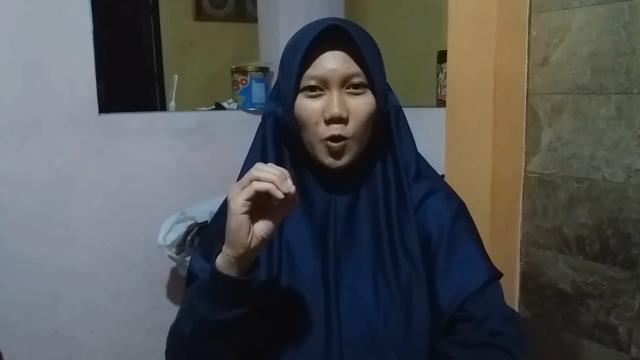O: (224, 161, 300, 257)
